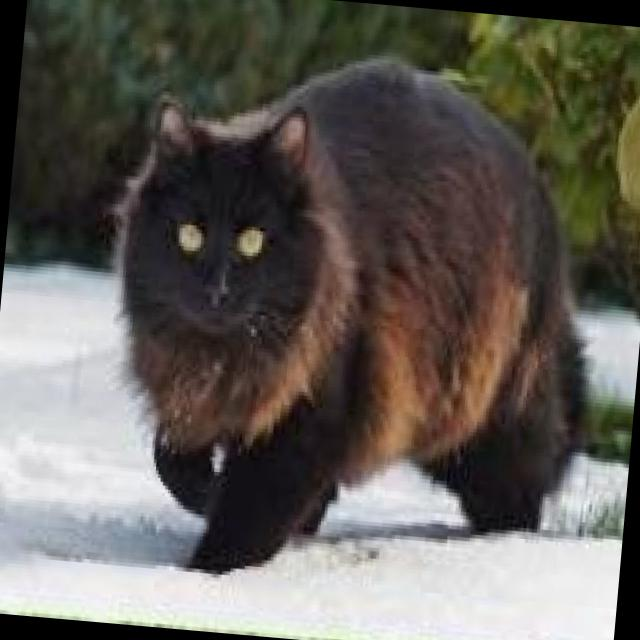Gato: (81, 33, 624, 609)
